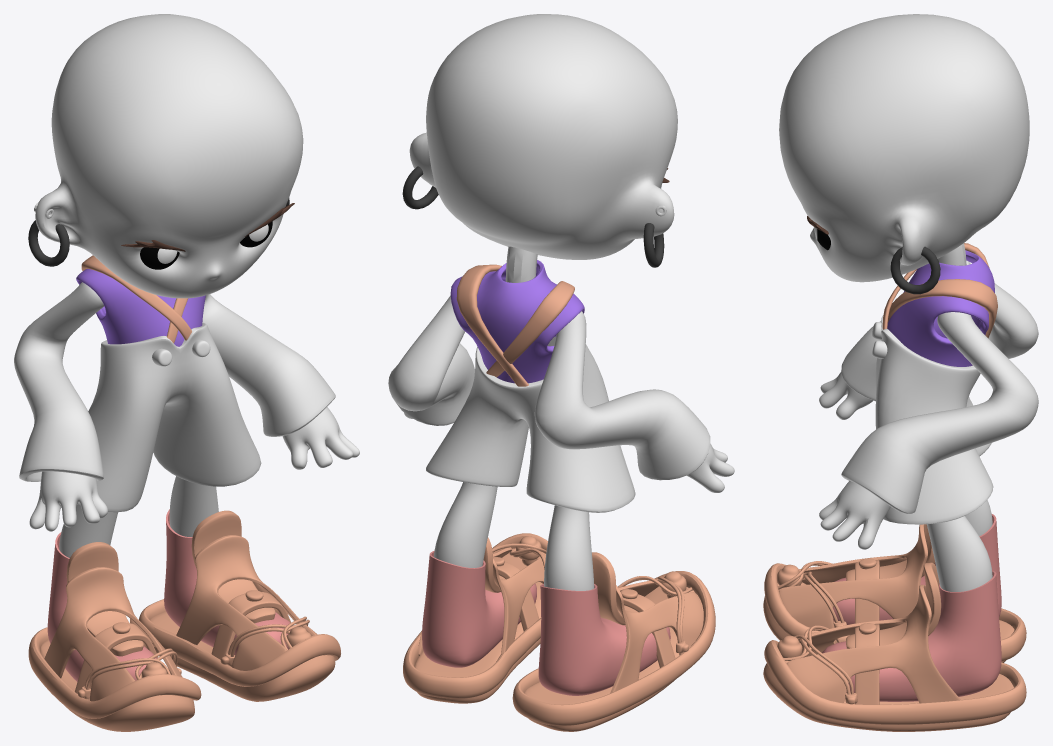
File: 11-ANIMATION-CHATACTER 4.fbx
The picture shows the model from 3 angles, left to right: view 1: azimuth 30°, elevation 25°; view 2: azimuth 150°, elevation 25°; view 3: azimuth 270°, elevation 25°; orthographic projection.
Visible parts, largest first — view 1: Circle.013, Gold Stylised; view 2: Circle.013; view 3: Circle.013.
Part boxes in pixels (x1,y1,x2,y2): Circle.013: (14, 14, 359, 731); Gold Stylised: (140, 221, 272, 269); Circle.013: (388, 14, 734, 731); Circle.013: (763, 14, 1038, 731).
Bounding box in the file's own units: 276 × 542 × 205.
